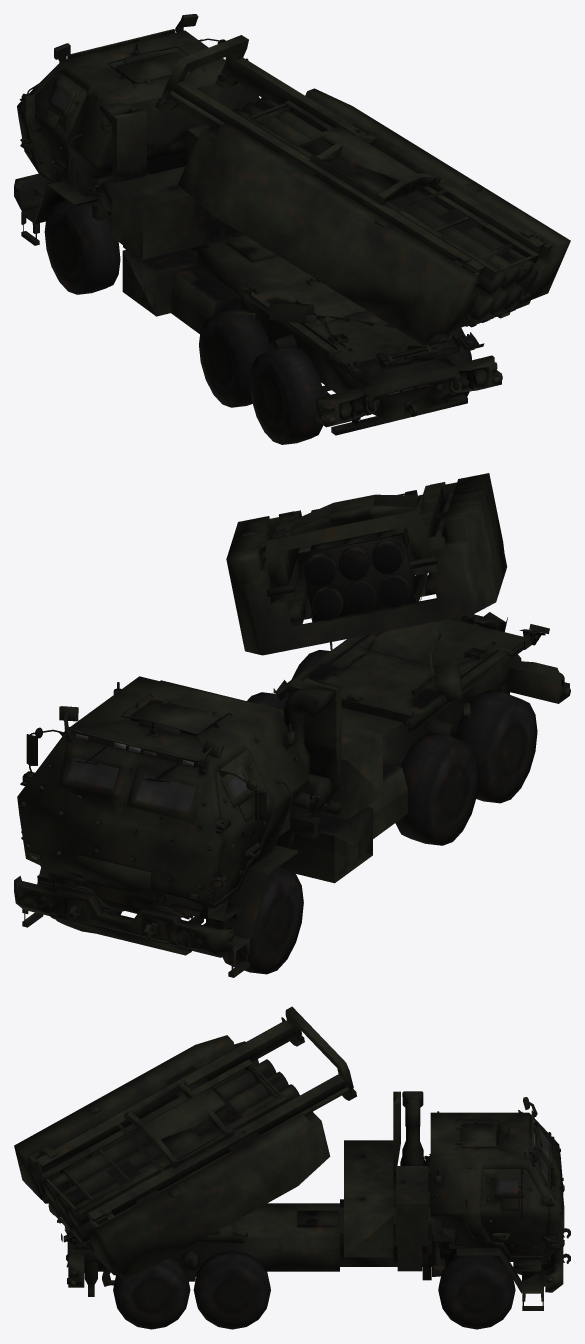
File: HIMARS-wreck.glb
3 views of the same model, one above another, from view 1: azimuth 30°, elevation 25°; view 2: azimuth 150°, elevation 25°; view 3: azimuth 270°, elevation 25° (orthographic). The views are drawn at different scales.
Parts seen in each view (by area): view 1: hull, turret; view 2: hull, turret; view 3: hull, turret.
Part boxes in pixels (x1,y1,x2,y2): hull: (14,14,502,444); turret: (155,35,570,345); hull: (14,598,570,977); turret: (226,473,507,717); hull: (57,1091,570,1329); turret: (14,1006,356,1281).
Bounding box in the file's own units: 3.5 × 3.58 × 7.11.
1 material, 1 textured.
